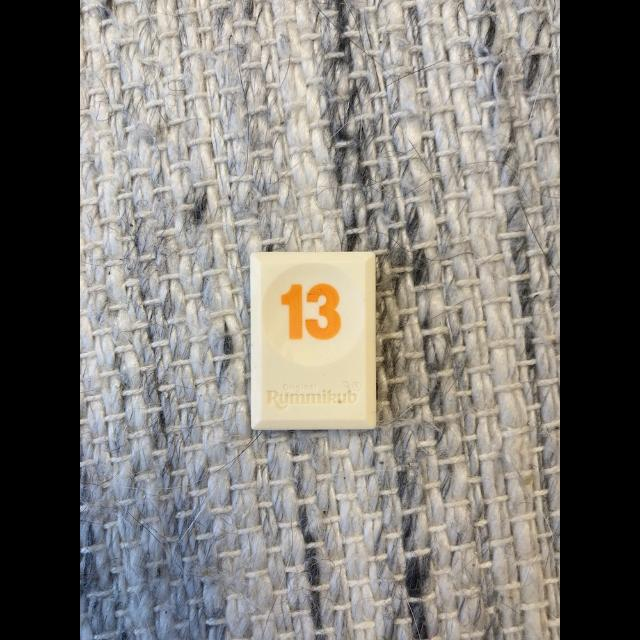orange_13: (251, 251, 376, 430)
